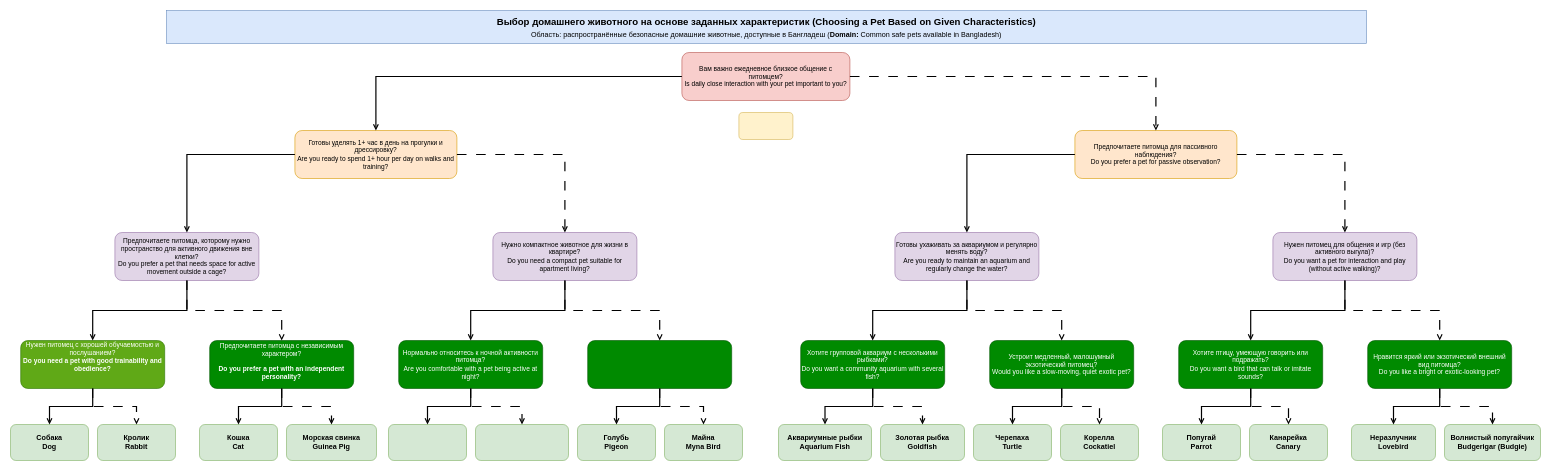
The diagram is 1551 pixels wide and 471 high, and some of its shapes have lost their labels. Here are the shapes that lost their labels. From the top down, the centre of each, then its label:
the point at 765,126: ─── да - - - нет
the point at 659,364: Нужен очень тихий и спокойный питомец? Do you need a very quiet and calm pet?
the point at 427,442: Хомяк Hamster
the point at 521,442: Декоративная крыса Fancy Rat
